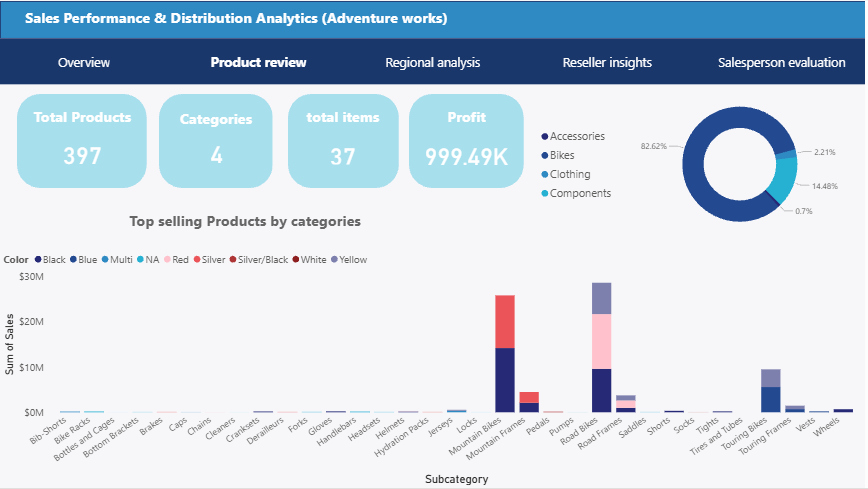

The page's visual inventory and layout, read from the dashboard file:
{"tool":"powerbi","page":{"name":"Product review","canvas":[1280,720],"ordinal":1},"visuals":[{"type":"shape","box":[0,0,1280,55.7],"z":0,"group":"g1"},{"type":"donutChart","fields":{"Category":["Product.Category"],"Y":["Sum(Sales.Sales)"]},"box":[794.6,122.9,485.9,237.1],"z":0},{"type":"shape","box":[604.4,137.6,169.5,139],"z":0,"group":"g4"},{"type":"columnChart","fields":{"Category":["Product.Subcategory"],"Y":["Sum(Sales.Sales)"],"Series":["Product.Color"]},"box":[0,360,1280.5,360],"z":0,"group":"g6"},{"type":"group","id":"g1","title":"Group 6","box":[0,0,1280,122.8],"z":1000},{"type":"textbox","box":[21.3,0,658,55.7],"z":1000,"group":"g1"},{"type":"shape","box":[24.9,137.6,191.7,139],"z":1000,"group":"g5"},{"type":"shape","box":[425.9,137.6,163.9,139],"z":1000,"group":"g3"},{"type":"textbox","box":[642.4,150.8,93.7,41],"z":1000,"group":"g4"},{"type":"bookmarkNavigator","box":[0,55.7,1280,67.1],"z":2000,"group":"g1"},{"type":"group","id":"g2","title":"Group 2","box":[235.6,137.6,168.3,139],"z":2000},{"type":"shape","box":[235.6,137.6,168.3,139],"z":2000,"group":"g2"},{"type":"cardVisual","fields":{"Data":["Sales.Profit"]},"box":[610.3,184.4,158,64.4],"z":2000,"group":"g4"},{"type":"textbox","box":[163.9,304.4,396.6,55.6],"z":2000,"group":"g6"},{"type":"group","id":"g3","title":"Group 3","box":[425.9,137.6,163.9,139],"z":3000},{"type":"cardVisual","fields":{"Data":["Product.unique items"]},"box":[453.7,184.4,106.8,62.9],"z":3000,"group":"g3"},{"type":"group","id":"g4","title":"Group 4","box":[604.4,137.6,169.5,139],"z":4000},{"type":"group","id":"g5","title":"Group 1","box":[24.9,137.6,191.7,139],"z":5000},{"type":"textbox","box":[437.6,150.8,139,42.4],"z":5000,"group":"g3"},{"type":"textbox","box":[33.7,150.8,175.6,49.8],"z":6000,"group":"g5"},{"type":"textbox","box":[256.1,153.7,127.3,43.9],"z":6000,"group":"g2"},{"type":"group","id":"g6","title":"Group 5","box":[0,304.4,1280.5,415.6],"z":6000},{"type":"cardVisual","fields":{"Data":["Product.Unique categories"]},"box":[266.3,181.5,108.3,70.2],"z":8000,"group":"g2"},{"type":"cardVisual","fields":{"Data":["CountNonNull(Product.ProductKey)"]},"box":[60,183,122.9,65.9],"z":9000,"group":"g5"}]}

Visuals, with their boxes in screenshot pixels (x1, y1, x2, y2), scaled from the page's 1280x720 canvas onto the 868x489 screenshot:
shape: <bbox>0, 0, 867, 38</bbox>
donutChart - Product.Category x Sum(Sales.Sales): <bbox>539, 83, 867, 244</bbox>
shape: <bbox>410, 93, 525, 188</bbox>
columnChart - Product.Subcategory x Sum(Sales.Sales): <bbox>0, 244, 867, 488</bbox>
"Group 6" group: <bbox>0, 0, 867, 83</bbox>
textbox: <bbox>14, 0, 461, 38</bbox>
shape: <bbox>17, 93, 147, 188</bbox>
shape: <bbox>289, 93, 400, 188</bbox>
textbox: <bbox>436, 102, 499, 130</bbox>
bookmarkNavigator: <bbox>0, 38, 867, 83</bbox>
"Group 2" group: <bbox>160, 93, 274, 188</bbox>
shape: <bbox>160, 93, 274, 188</bbox>
cardVisual - Sales.Profit: <bbox>414, 125, 521, 169</bbox>
textbox: <bbox>111, 207, 380, 244</bbox>
"Group 3" group: <bbox>289, 93, 400, 188</bbox>
cardVisual - Product.unique items: <bbox>308, 125, 380, 168</bbox>
"Group 4" group: <bbox>410, 93, 525, 188</bbox>
"Group 1" group: <bbox>17, 93, 147, 188</bbox>
textbox: <bbox>297, 102, 391, 131</bbox>
textbox: <bbox>23, 102, 142, 136</bbox>
textbox: <bbox>174, 104, 260, 134</bbox>
"Group 5" group: <bbox>0, 207, 867, 488</bbox>
cardVisual - Product.Unique categories: <bbox>181, 123, 254, 171</bbox>
cardVisual - CountNonNull(Product.ProductKey): <bbox>41, 124, 124, 169</bbox>
